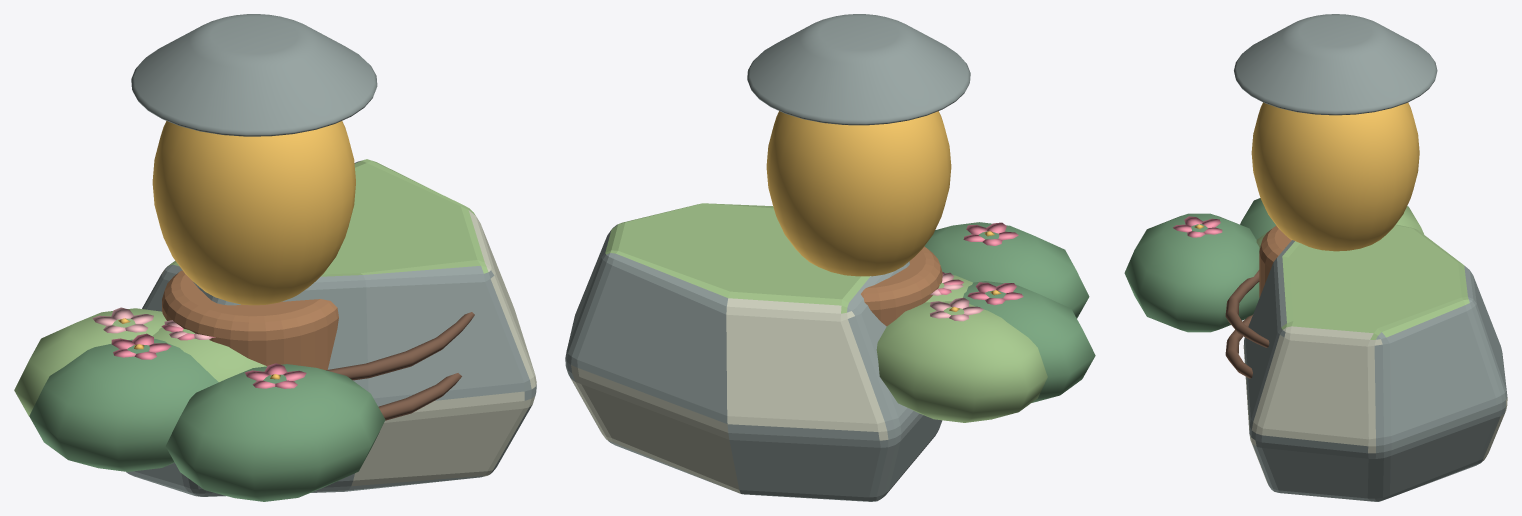
The model's file is hub_decor_b.glb.
3 renders of one model, left to right at view 1: azimuth 30°, elevation 25°; view 2: azimuth 150°, elevation 25°; view 3: azimuth 270°, elevation 25°, orthographic. The views are drawn at different scales.
Visible parts, largest first — view 1: Merged Garden slate stone, Merged Orchard sage grass, Merged Pollen warm gold, Merged Orchard moss tips, Merged Worn ivory stepping stone, Merged Peachwood crate, Merged Orchard exposed earth, Merged Coral blush blossom, Merged Light blush blossom; view 2: Merged Garden slate stone, Merged Orchard moss tips, Merged Worn ivory stepping stone, Merged Pollen warm gold, Merged Orchard sage grass, Merged Peachwood crate, Merged Coral blush blossom, Merged Light blush blossom; view 3: Merged Garden slate stone, Merged Pollen warm gold, Merged Orchard moss tips, Merged Worn ivory stepping stone, Merged Orchard sage grass, Merged Orchard exposed earth, Merged Peachwood crate, Merged Coral blush blossom.
Part boxes in pixels (x1,y1,x2,y2): Merged Garden slate stone: (126,14,536,496); Merged Orchard sage grass: (29,338,385,501); Merged Pollen warm gold: (118,121,355,379); Merged Orchard moss tips: (14,159,488,416); Merged Worn ivory stepping stone: (161,210,536,486); Merged Peachwood crate: (162,270,338,370); Merged Orchard exposed earth: (326,312,474,420); Merged Coral blush blossom: (111,324,306,388); Merged Light blush blossom: (92,307,211,339); Merged Garden slate stone: (565,14,970,501); Merged Orchard moss tips: (605,203,1047,422); Merged Worn ivory stepping stone: (571,298,888,493); Merged Pollen warm gold: (766,111,1001,311); Merged Orchard sage grass: (924,222,1095,402); Merged Peachwood crate: (861,246,942,326); Merged Coral blush blossom: (937,222,1023,305); Merged Light blush blossom: (930,272,983,321); Merged Garden slate stone: (1234,14,1507,501); Merged Pollen warm gold: (1194,102,1419,251); Merged Orchard moss tips: (1256,206,1469,339); Merged Worn ivory stepping stone: (1243,326,1507,483); Merged Orchard sage grass: (1124,198,1275,332); Merged Orchard exposed earth: (1225,270,1269,378); Merged Peachwood crate: (1259,225,1291,297); Merged Coral blush blossom: (1173,216,1222,237).
Size of the model in its own units: 1.28 by 1.1 by 1.
